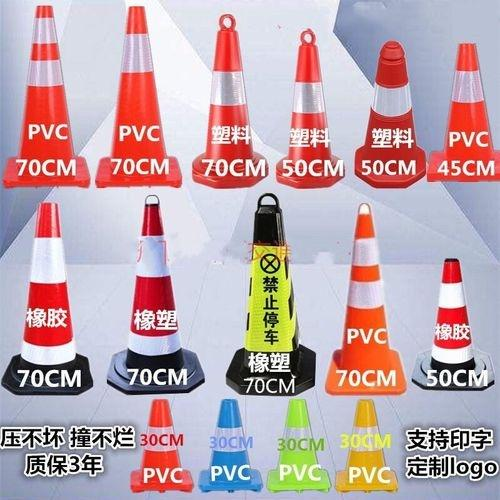cone_barrel: (111, 194, 195, 400), (3, 200, 90, 393), (3, 1, 89, 190), (226, 205, 311, 391), (97, 7, 181, 187), (327, 202, 405, 392), (190, 19, 263, 188), (353, 43, 427, 191), (275, 31, 343, 192), (429, 40, 495, 180), (415, 257, 485, 385), (267, 398, 329, 490), (130, 399, 190, 492), (339, 400, 394, 492), (202, 397, 256, 486)
